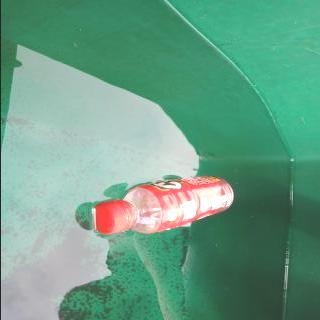bottle: (90, 174, 236, 236)
